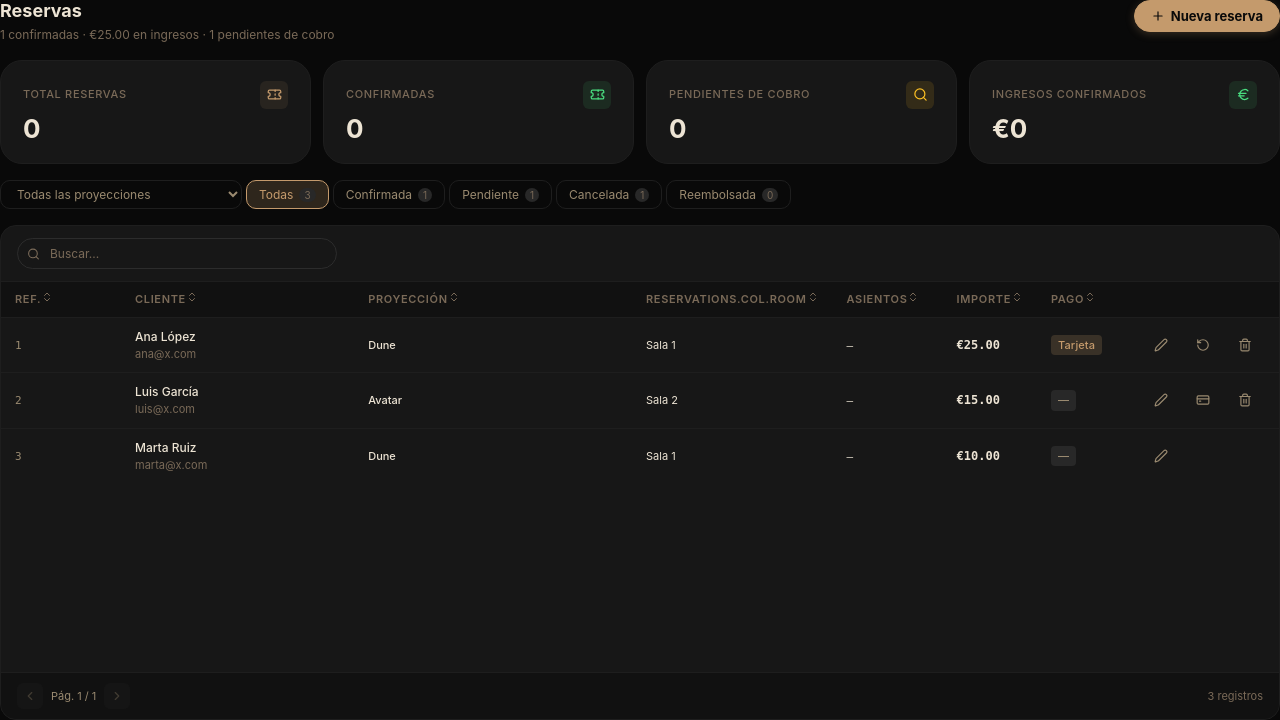
Test case: ReservationsPage — comprehensive › detail modal shows edit and action buttons based on status
Open detail for CONFIRMED purchase (Ana)
Click the text "Ana López": [165, 336] box left=135, top=329, right=196, bottom=344
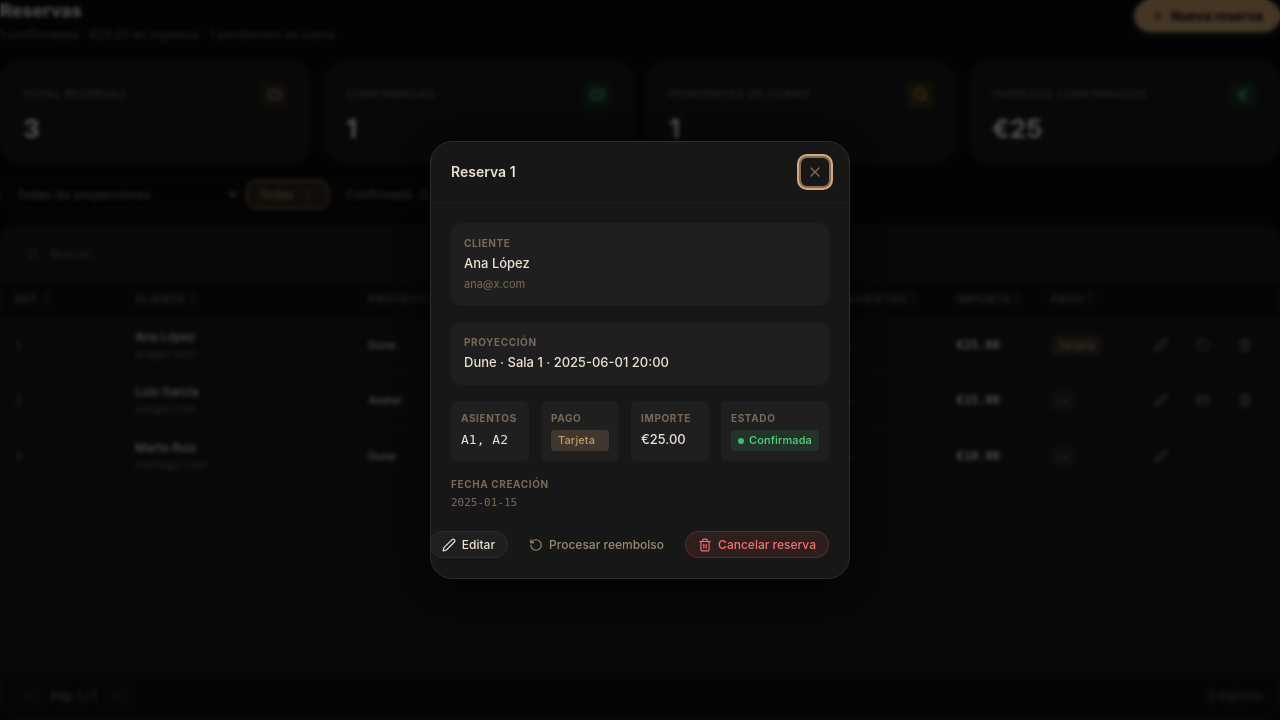
Now the button "Editar" is shown, box left=431, top=531, right=508, bottom=558
